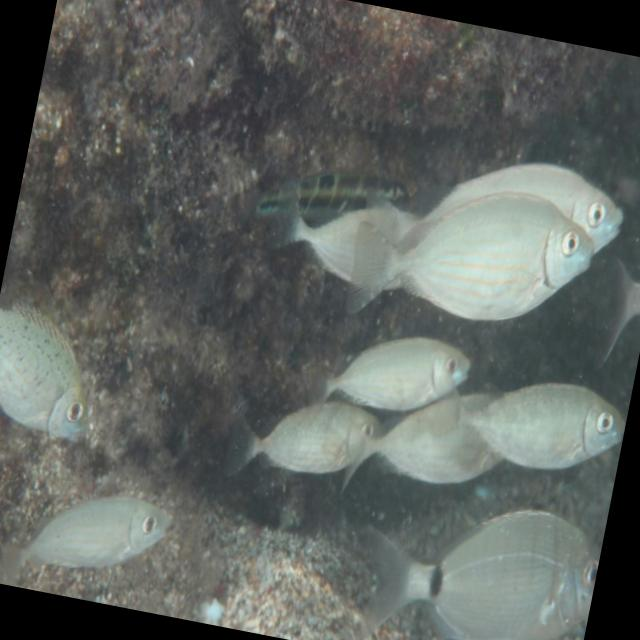Sokar Baligi: (332, 154, 616, 364), (428, 332, 636, 492), (0, 452, 195, 617)
